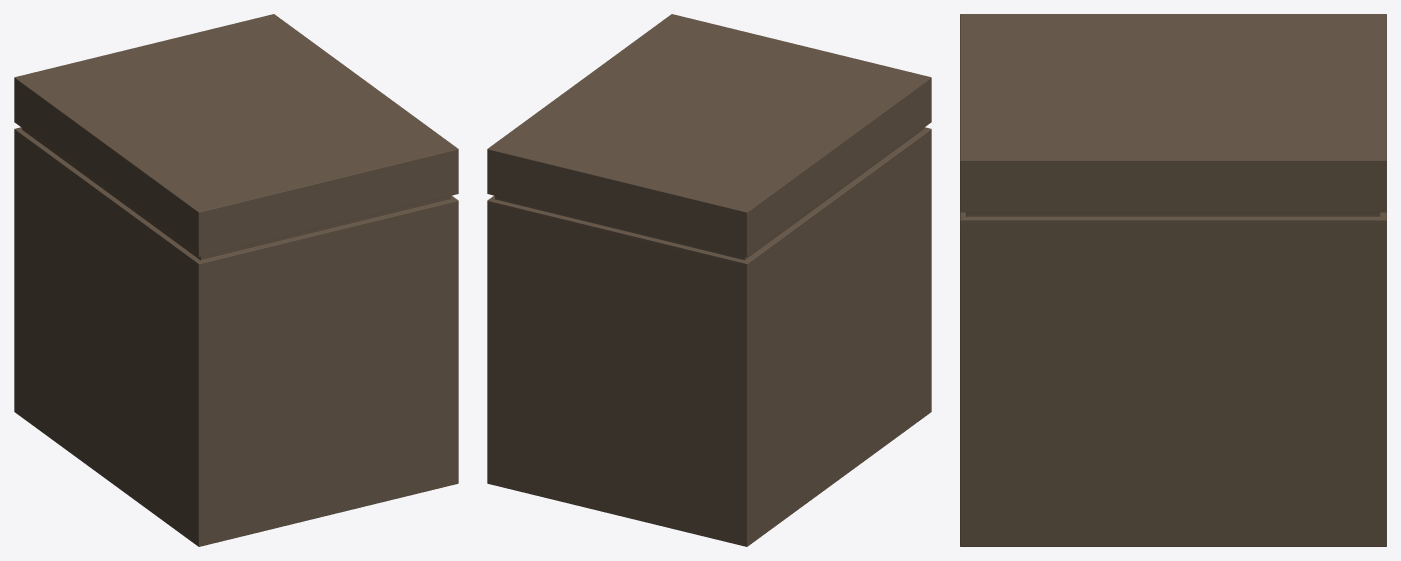
The model's file is kitchenCupboardNoBoxes.fbx.
3 renders of one model, left to right at view 1: azimuth 30°, elevation 25°; view 2: azimuth 150°, elevation 25°; view 3: azimuth 270°, elevation 25°, orthographic. The views are drawn at different scales.
Visible parts, largest first — view 1: kitchenCupboard; view 2: kitchenCupboard; view 3: kitchenCupboard.
Boxes of the visible parts, <box> form: kitchenCupboard: <box>14,14,458,546</box>; kitchenCupboard: <box>487,14,931,546</box>; kitchenCupboard: <box>960,14,1386,546</box>.
Bounding box in the file's own units: 32.53 × 40 × 40.
